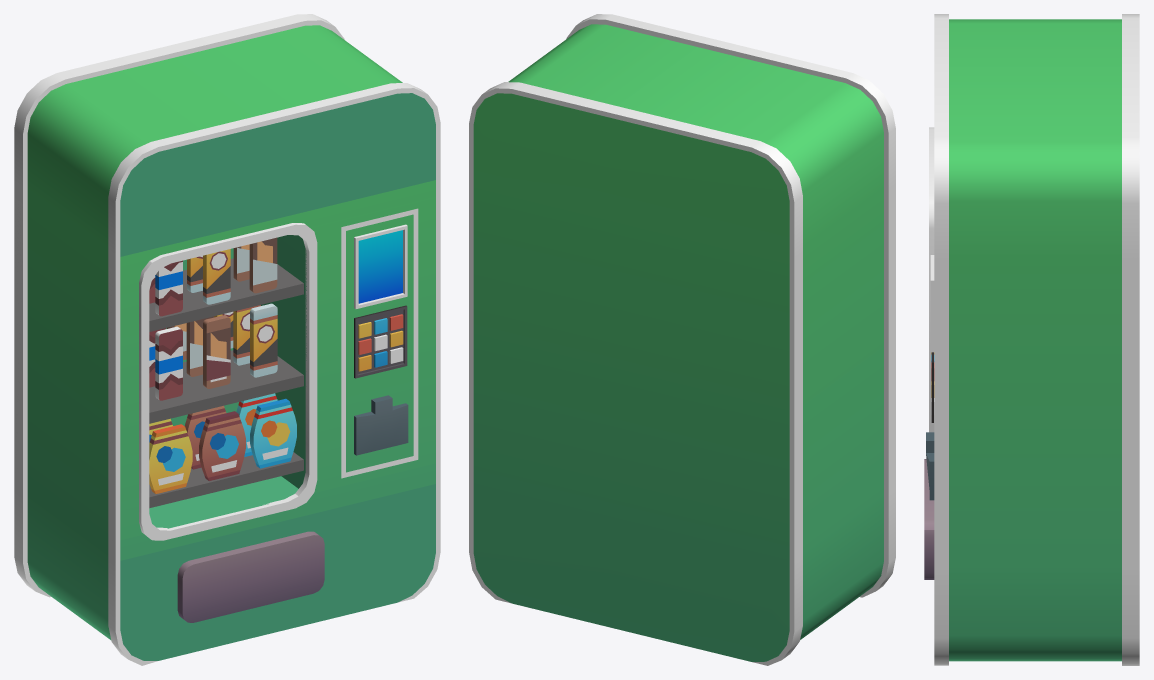
The model's file is SnacksMchn.fbx.
3 renders of one model, left to right at view 1: azimuth 30°, elevation 25°; view 2: azimuth 150°, elevation 25°; view 3: azimuth 270°, elevation 25°, orthographic.
Visible parts, largest first — view 1: SnacksMchn, SnacksMchn.001, Snack_4.002, Snack_4.001, Snack_4, Snack_3, Snack_2, Snack_1, Snack_2.003, Snack_3.003, Snack_1.003, Snack_2.001 (+3 smaller); view 2: SnacksMchn; view 3: SnacksMchn, SnacksMchn.001.
Boxes of the visible parts, bbox=[...] form: SnacksMchn: bbox=[14, 14, 440, 665]; SnacksMchn.001: bbox=[177, 531, 324, 622]; Snack_4.002: bbox=[250, 398, 296, 468]; Snack_4.001: bbox=[199, 411, 245, 480]; Snack_4: bbox=[149, 424, 192, 493]; Snack_3: bbox=[250, 303, 277, 377]; Snack_2: bbox=[203, 315, 230, 388]; Snack_1: bbox=[155, 326, 182, 400]; Snack_2.003: bbox=[249, 237, 277, 293]; Snack_3.003: bbox=[203, 249, 230, 304]; Snack_1.003: bbox=[155, 260, 182, 316]; Snack_2.001: bbox=[186, 316, 214, 376]; SnacksMchn: bbox=[469, 14, 895, 665]; SnacksMchn: bbox=[926, 14, 1139, 665]; SnacksMchn.001: bbox=[924, 459, 934, 579].
Bounding box in the file's own units: 185 × 281 × 105.
